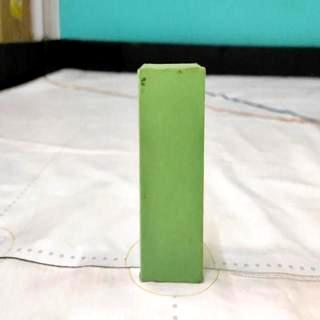greenbox: (138, 62, 204, 286)
